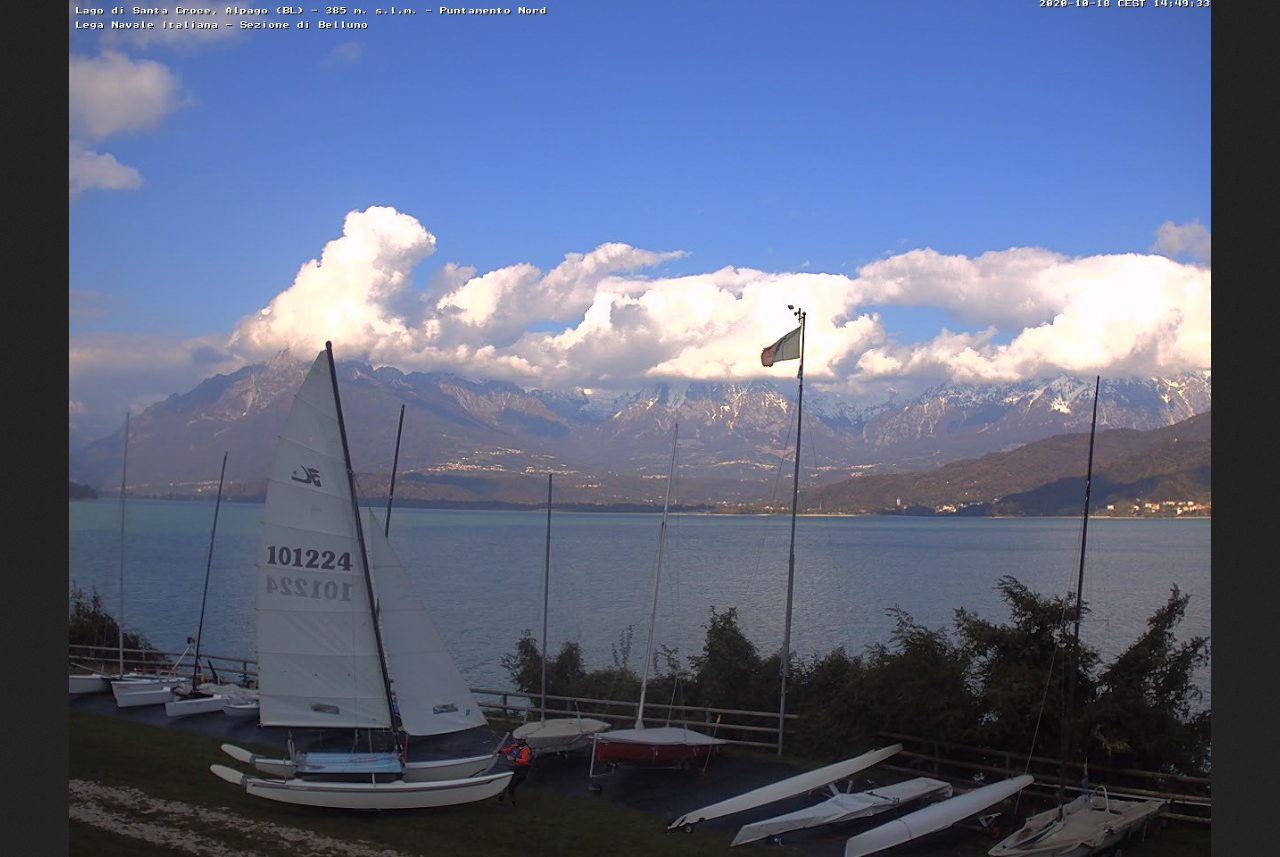yes: (758, 326, 802, 368)
